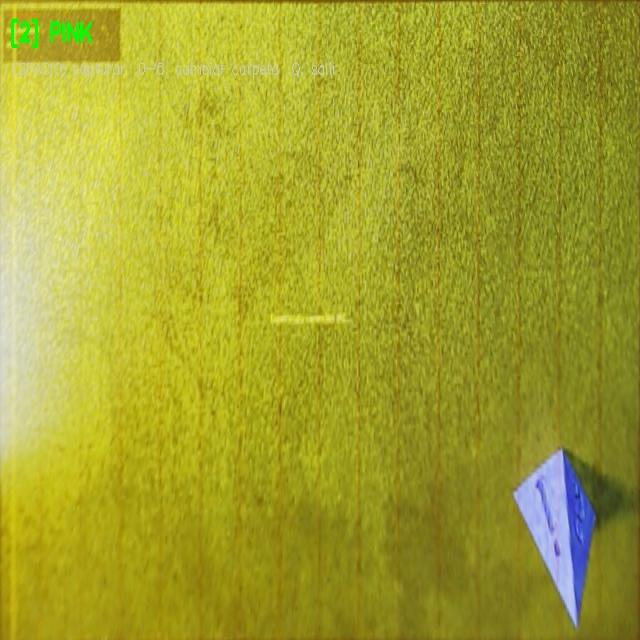pink: (515, 449, 595, 625)
